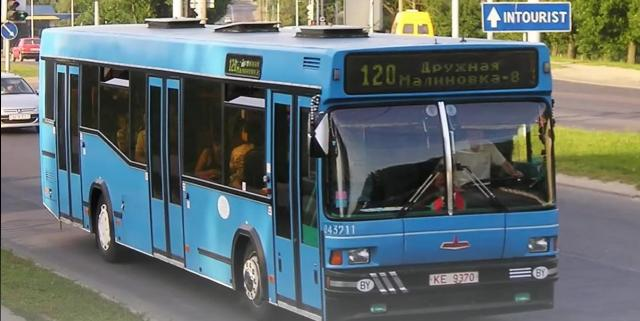bus: (34, 17, 566, 316)
